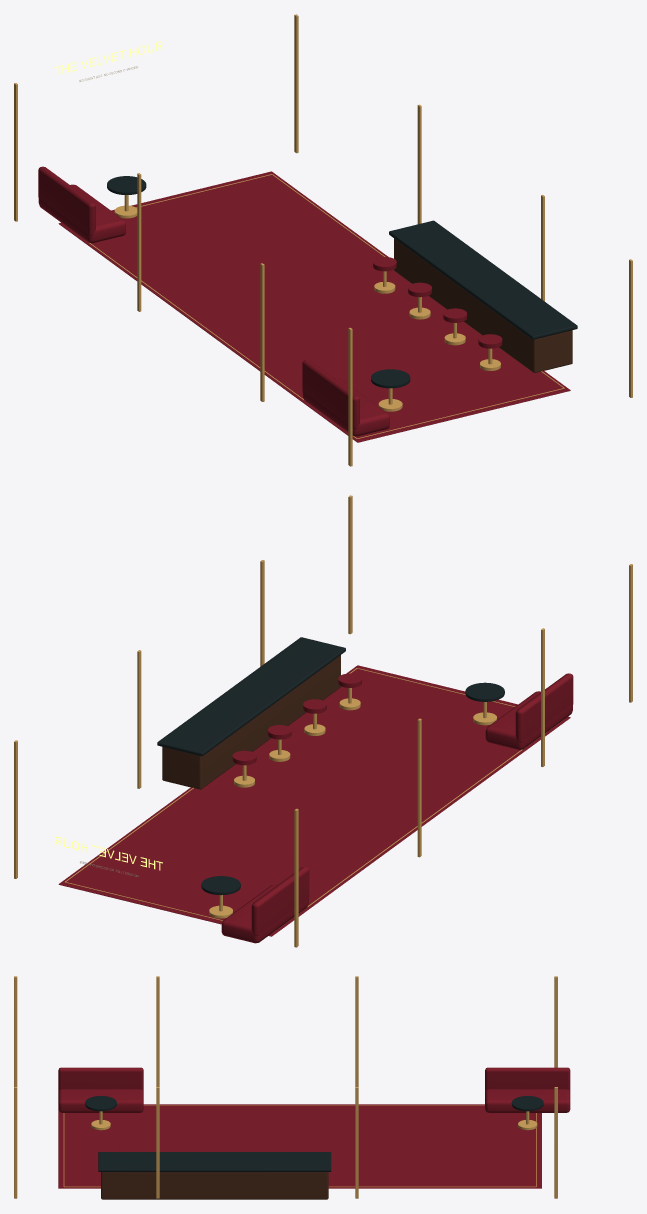
The model's file is speakeasy-decor.glb.
3 views of the same model, one above another, from view 1: azimuth 30°, elevation 25°; view 2: azimuth 150°, elevation 25°; view 3: azimuth 270°, elevation 25° (orthographic). The views are drawn at different scales.
Visible parts, largest first — view 1: Velvet rug, Marble bar top, Private bar, Banquette back, Banquette back.001, Banquette seat, Banquette seat.001, Deco wall pilaster.002, Deco wall pilaster.001, Deco wall pilaster.003, Deco wall pilaster.004, Cocktail table top.001; view 2: Velvet rug, Marble bar top, Private bar, Banquette back, Banquette back.001, Banquette seat.001, Banquette seat, Deco wall pilaster, Deco wall pilaster.001, Deco wall pilaster.005, Deco wall pilaster.007, Cocktail table top.001 (+1 smaller); view 3: Velvet rug, Private bar, Marble bar top, Banquette back.001, Banquette back, Banquette seat.001, Banquette seat, Rug gold border.001, Deco wall pilaster.004, Deco wall pilaster.005, Deco wall pilaster.006, Deco wall pilaster.007 (+7 smaller).
Boxes of the visible parts, <box> form: Velvet rug: <box>58,171,570,442</box>; Marble bar top: <box>389,220,577,339</box>; Private bar: <box>394,238,572,372</box>; Banquette back: <box>38,166,95,235</box>; Banquette back.001: <box>302,360,359,429</box>; Banquette seat: <box>38,184,125,243</box>; Banquette seat.001: <box>302,378,389,436</box>; Deco wall pilaster.002: <box>260,263,264,401</box>; Deco wall pilaster.001: <box>137,173,141,311</box>; Deco wall pilaster.003: <box>348,327,352,466</box>; Deco wall pilaster.004: <box>294,14,298,153</box>; Cocktail table top.001: <box>371,369,410,388</box>; Velvet rug: <box>58,665,570,936</box>; Marble bar top: <box>157,637,345,756</box>; Private bar: <box>162,655,340,789</box>; Banquette back: <box>251,866,309,935</box>; Banquette back.001: <box>515,673,573,742</box>; Banquette seat.001: <box>485,691,572,749</box>; Banquette seat: <box>221,884,308,943</box>; Deco wall pilaster: <box>294,808,298,947</box>; Deco wall pilaster.001: <box>417,718,421,857</box>; Deco wall pilaster.005: <box>137,650,141,788</box>; Deco wall pilaster.007: <box>348,495,352,634</box>; Cocktail table top.001: <box>465,682,504,701</box>; Velvet rug: <box>58,1104,541,1188</box>; Private bar: <box>101,1172,328,1199</box>; Marble bar top: <box>98,1152,331,1171</box>; Banquette back.001: <box>58,1067,143,1090</box>; Banquette back: <box>485,1067,570,1090</box>; Banquette seat.001: <box>58,1089,143,1112</box>; Banquette seat: <box>485,1089,570,1112</box>; Rug gold border.001: <box>64,1186,535,1187</box>; Deco wall pilaster.004: <box>554,1087,557,1198</box>; Deco wall pilaster.005: <box>355,1087,358,1198</box>; Deco wall pilaster.006: <box>156,1087,159,1198</box>; Deco wall pilaster.007: <box>14,1087,17,1198</box>.
Bounding box in the file's own units: 9.27 × 4.45 × 21.76.
